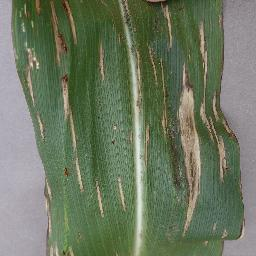Gray_Leaf_Spot: (180, 59, 200, 231), (130, 37, 164, 120), (212, 101, 242, 186), (155, 70, 182, 163), (192, 20, 213, 136), (44, 0, 78, 62), (109, 1, 150, 49), (20, 47, 45, 100), (58, 71, 80, 128), (162, 0, 183, 50), (12, 0, 50, 27), (141, 115, 163, 157), (39, 181, 57, 231), (91, 38, 113, 78), (33, 98, 53, 138), (238, 197, 254, 247), (121, 124, 144, 155), (212, 220, 231, 256), (72, 133, 81, 193), (96, 175, 108, 216), (117, 177, 130, 213), (42, 244, 79, 256), (58, 164, 70, 184)
